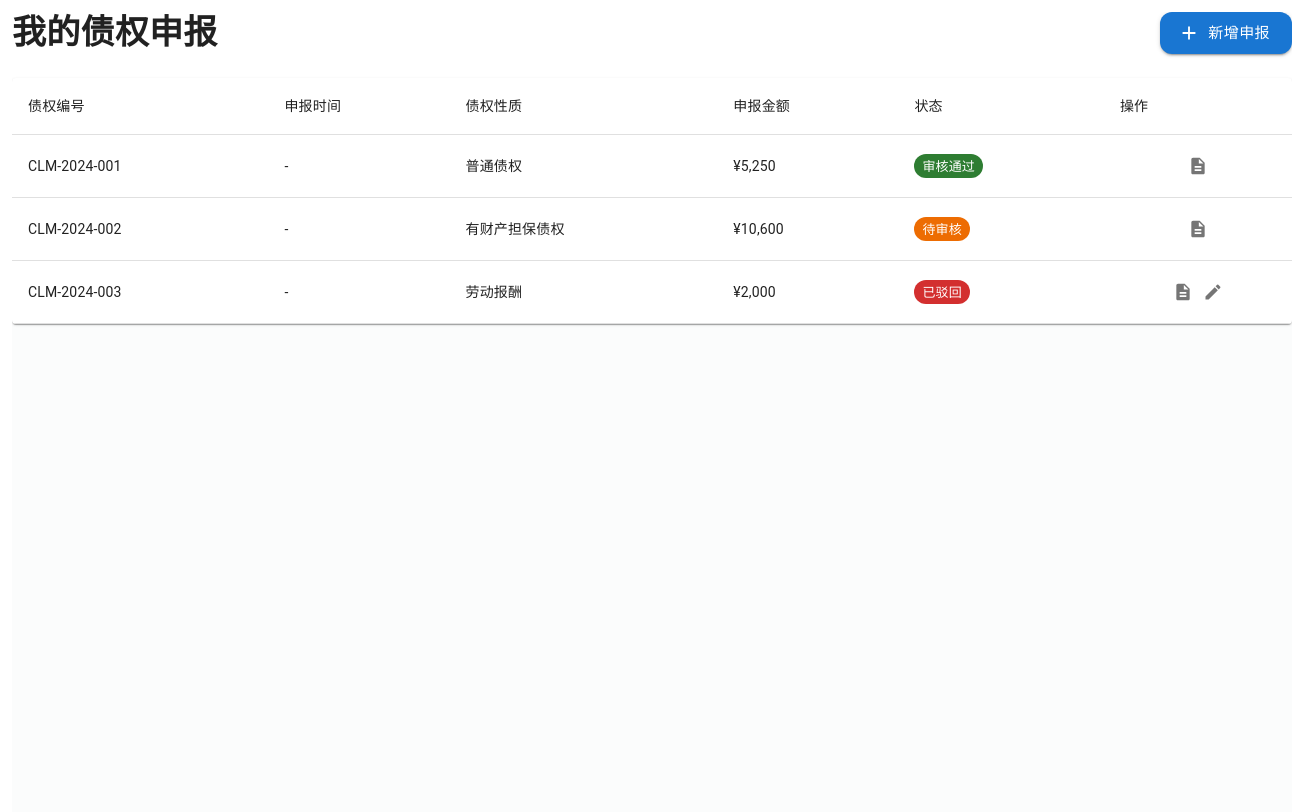
Scenario: ClaimSubmissionPage › updates totalAmount when principal, interest, or otherFees change
The image size is (1304, 812).
Click the button "新增申报" at (1226, 33), box [1160,12,1292,54]
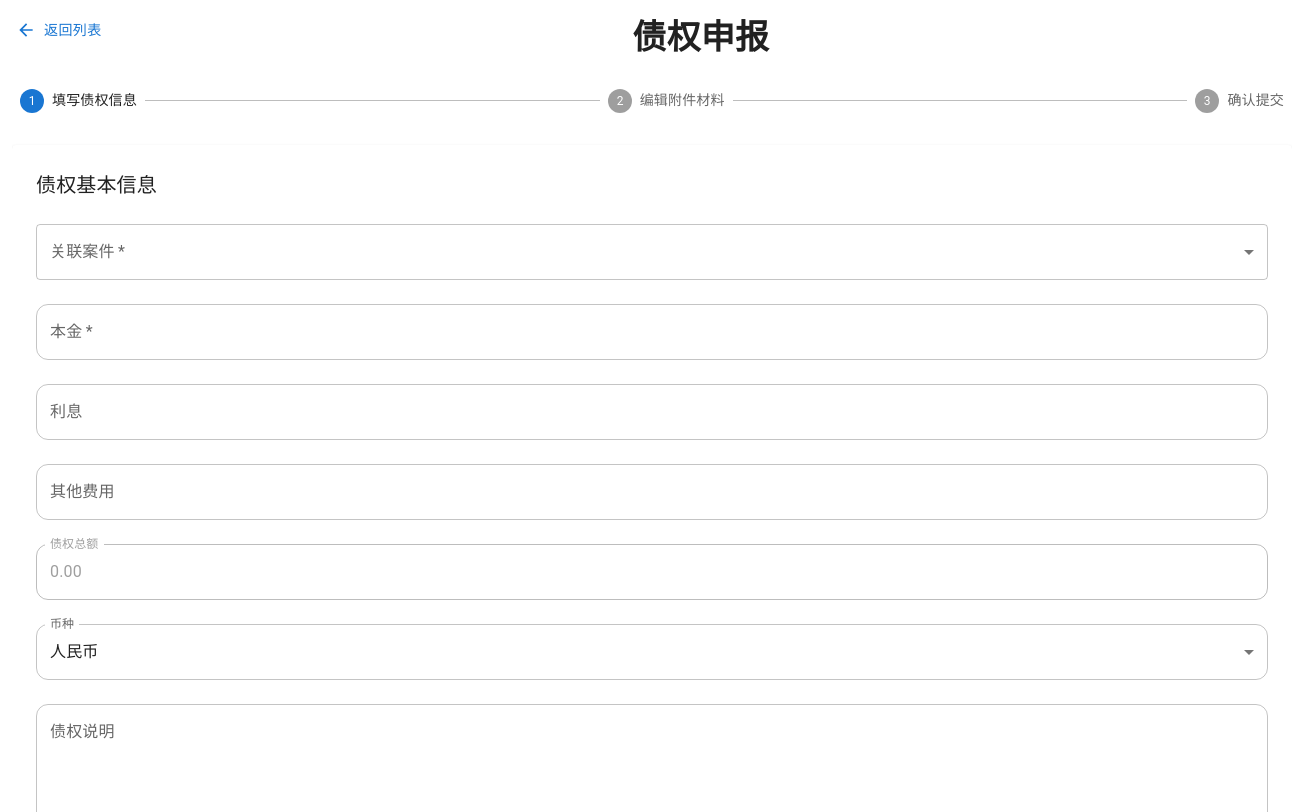
Type "1000" into the number field labelled "本金 *" at (652, 332), box [36,304,1268,360]
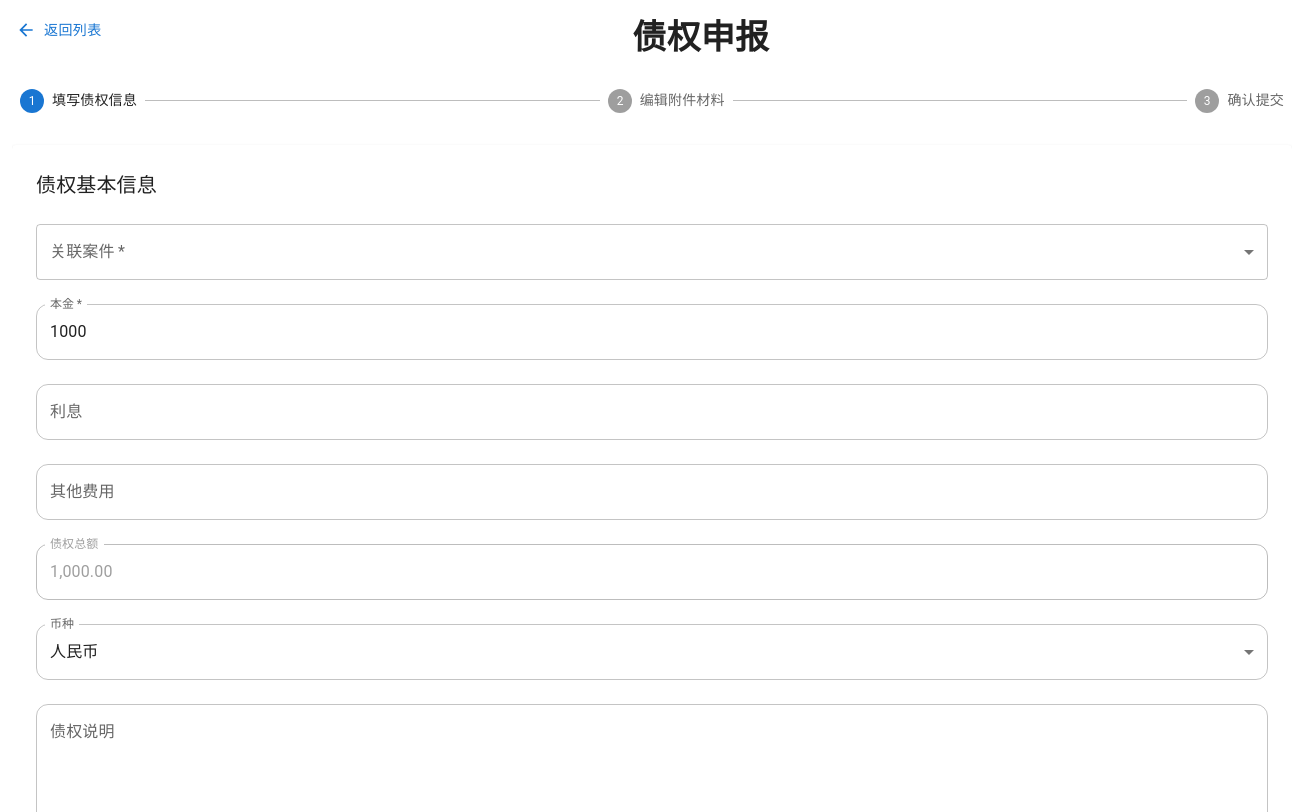
Expected: the field labelled "债权总额" holds "1,000.00", [36,544,1268,600]
Type "100" into the number field labelled "利息" at (652, 412), box [36,384,1268,440]
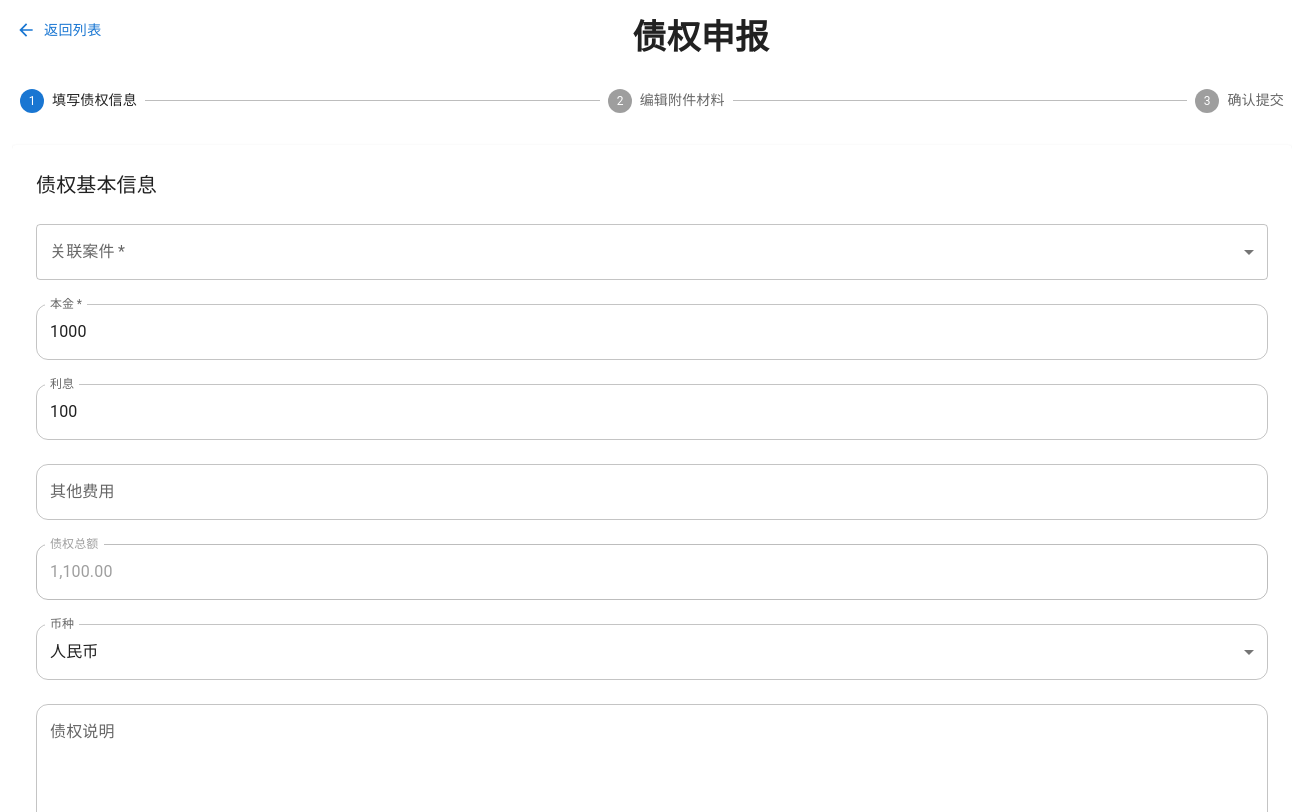
Expected: the field labelled "债权总额" holds "1,100.00", [36,544,1268,600]
Type "50" into the number field labelled "其他费用" at (652, 492), box [36,464,1268,520]
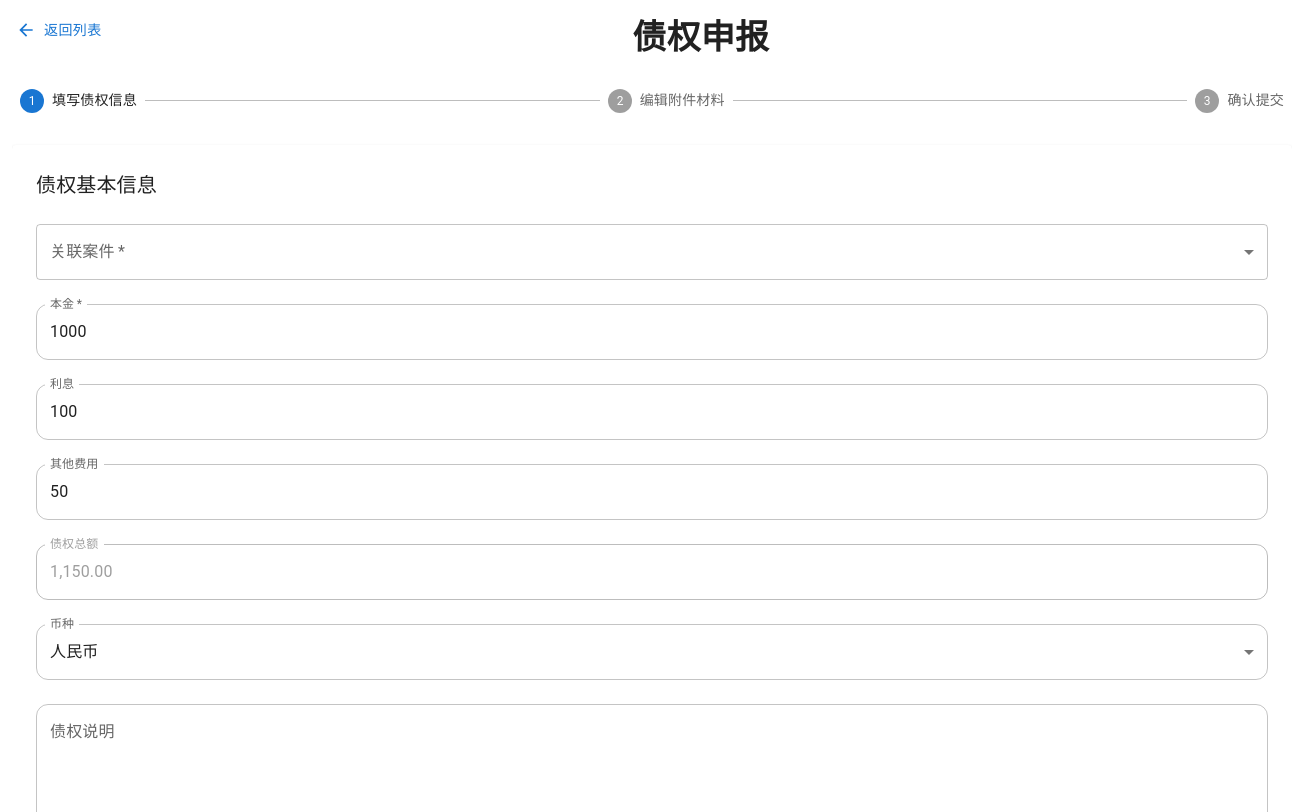
Expected: the field labelled "债权总额" holds "1,150.00", [36,544,1268,600]
Replace the text in the number field labelled "本金 *" with "2000" at (652, 332), box [36,304,1268,360]
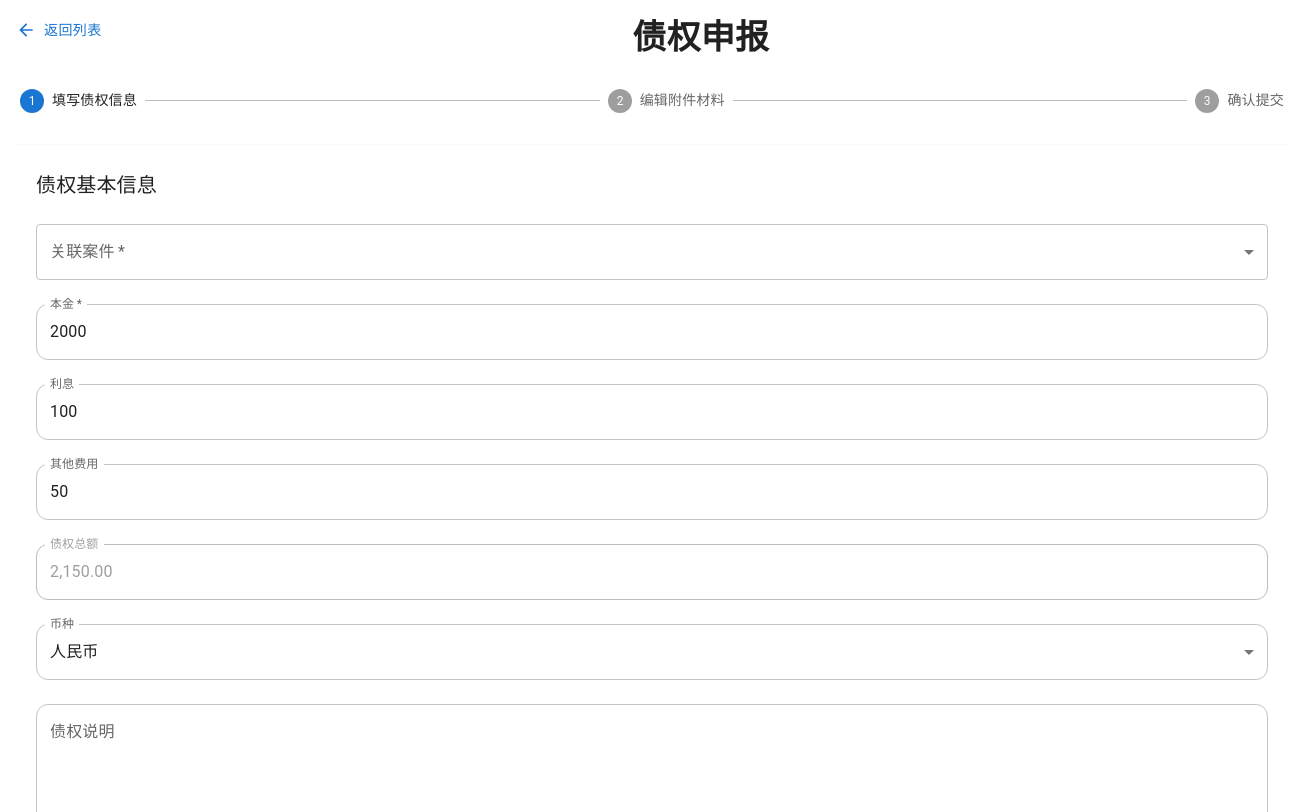
Expected: the field labelled "债权总额" holds "2,150.00", [36,544,1268,600]
